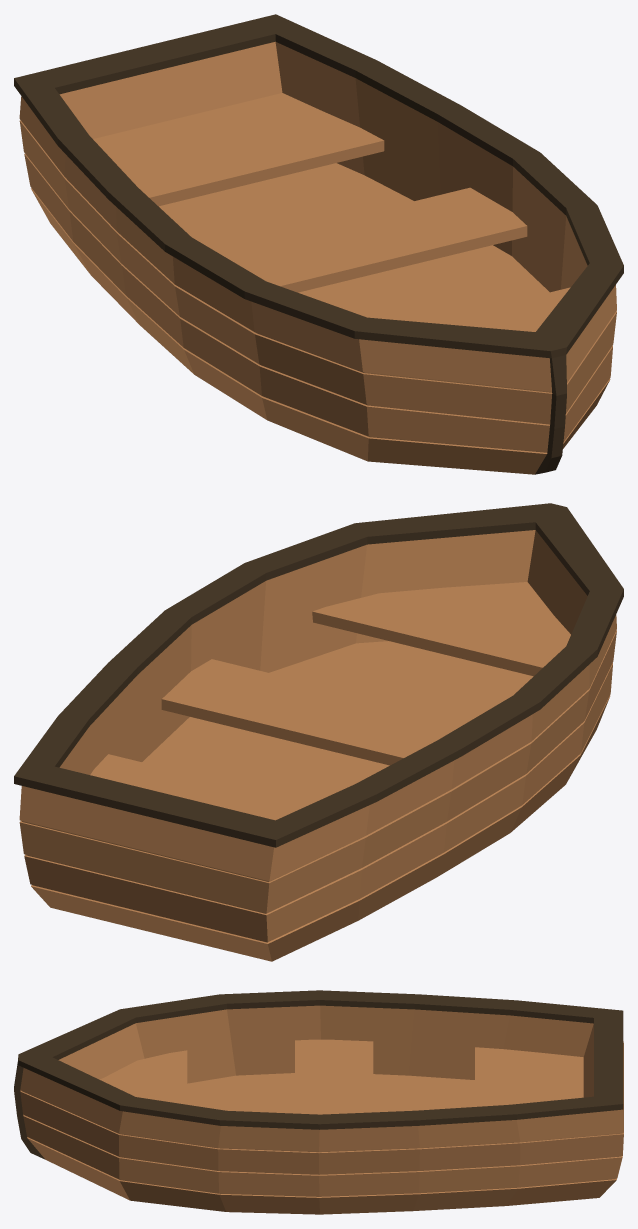
File: Vene.fbx
The picture shows the model from 3 angles, top to bottom: view 1: azimuth 30°, elevation 25°; view 2: azimuth 150°, elevation 25°; view 3: azimuth 270°, elevation 25°; orthographic projection. The views are drawn at different scales.
Parts seen in each view (by area): view 1: Vene; view 2: Vene; view 3: Vene.
Part boxes in pixels (box(x1,y1,x2,y2)): Vene: box(14, 14, 623, 474); Vene: box(14, 503, 623, 961); Vene: box(14, 990, 623, 1214).
Bounding box in the file's own units: 511 × 183 × 985.
